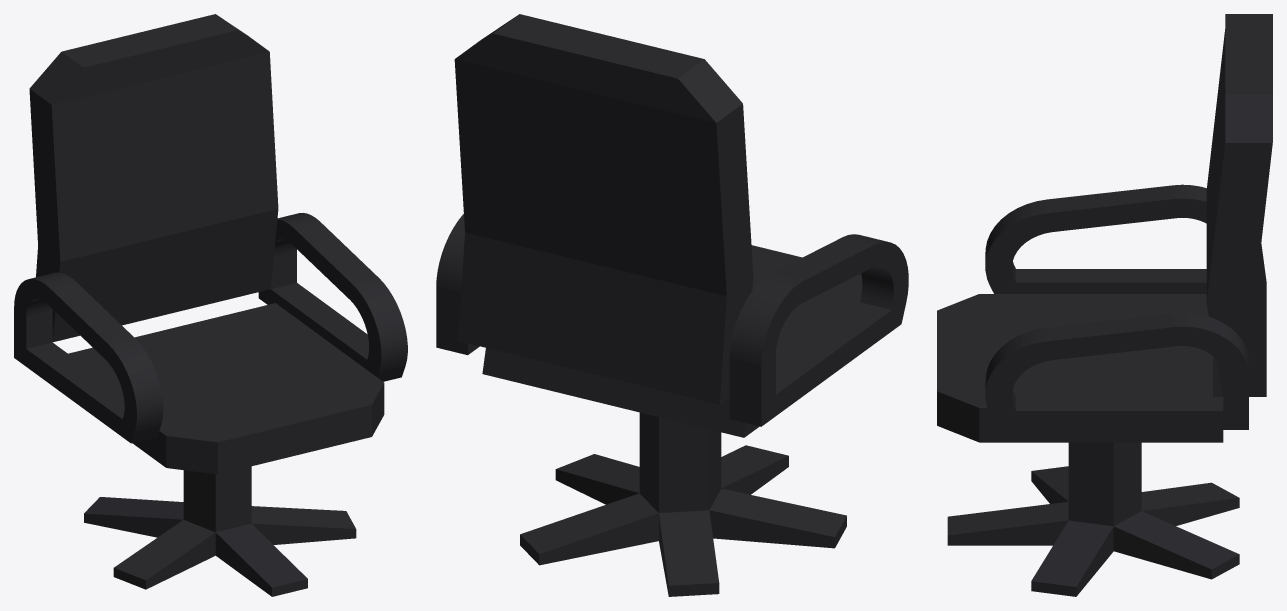
File: pk_taskchair.glb
The picture shows the model from 3 angles, left to right: view 1: azimuth 30°, elevation 25°; view 2: azimuth 150°, elevation 25°; view 3: azimuth 270°, elevation 25°; orthographic projection. The views are drawn at different scales.
Visible parts, largest first — view 1: pk_taskchair; view 2: pk_taskchair; view 3: pk_taskchair.
Boxes of the visible parts, box(x1,y1,x2,y2) form: pk_taskchair: box(14, 14, 407, 596); pk_taskchair: box(436, 14, 908, 596); pk_taskchair: box(937, 14, 1272, 596).
Size of the model in its own units: 0.6 by 0.95 by 0.6.
1 material, 1 textured.
